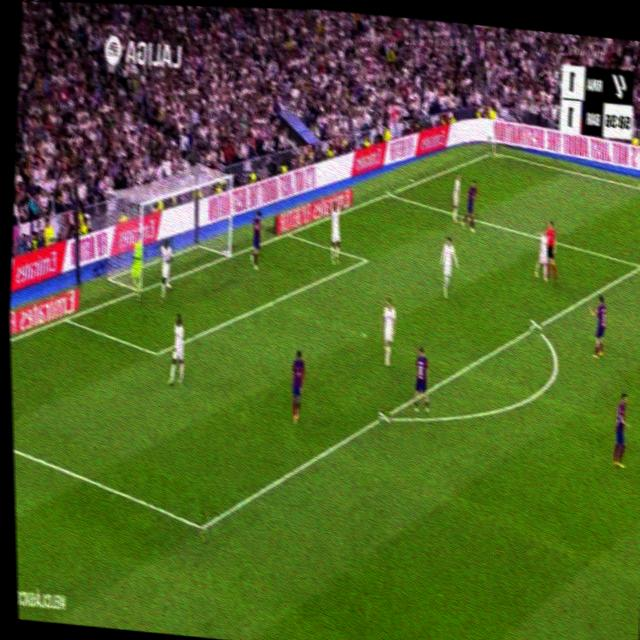bigarea_bottom_inner: (193, 509, 210, 543)
bigarea_top_inner: (633, 251, 640, 276)
bigarea_top_outter: (384, 184, 395, 200)
bottom_arc_area_intersection: (376, 403, 391, 428)
corner: (486, 144, 499, 158)
smallarea_top_inner: (361, 252, 370, 266)
top_arc_area_intersection: (528, 315, 541, 336)
